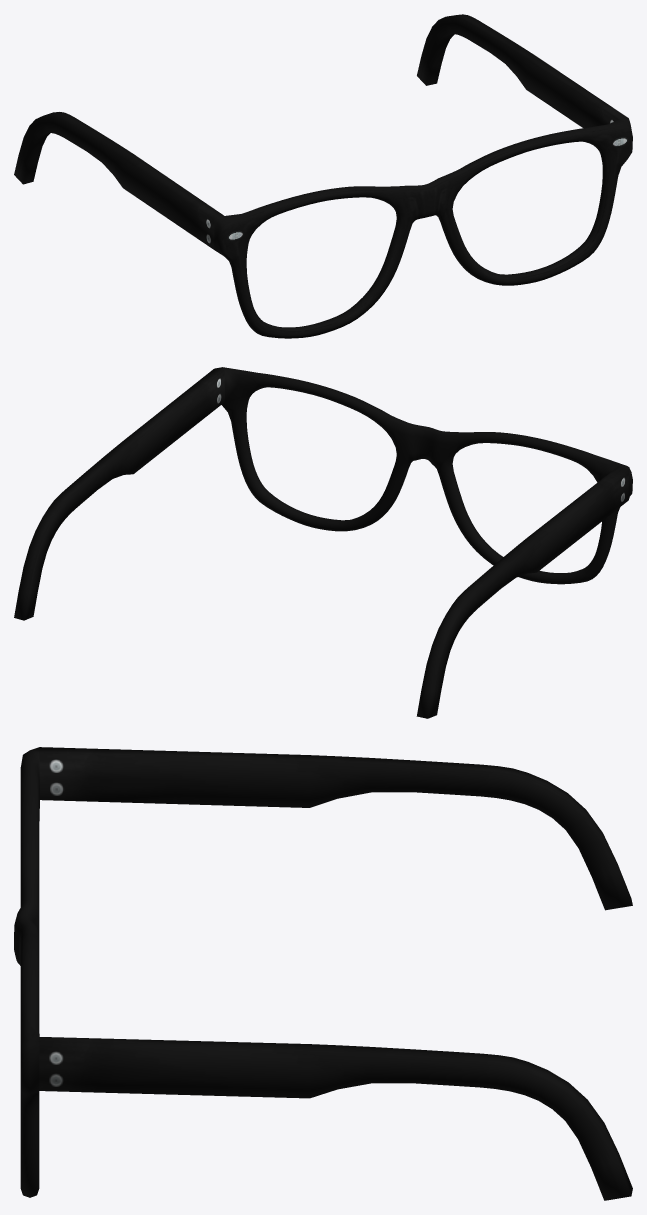
The model's file is Glasses3.obj.
3 renders of one model, top to bottom at view 1: azimuth 30°, elevation 25°; view 2: azimuth 150°, elevation 25°; view 3: azimuth 270°, elevation 25°, orthographic. The views are drawn at different scales.
Parts seen in each view (by area): view 1: Glasses3; view 2: Glasses3; view 3: Glasses3.
Boxes of the visible parts, x1,y1,x2,y2 form: Glasses3: (14, 14, 632, 338); Glasses3: (14, 367, 632, 718); Glasses3: (14, 747, 632, 1200).
Bounding box in the file's own units: 1.55 × 0.5073 × 1.35.
Materials: 1 (1 with a texture image).
